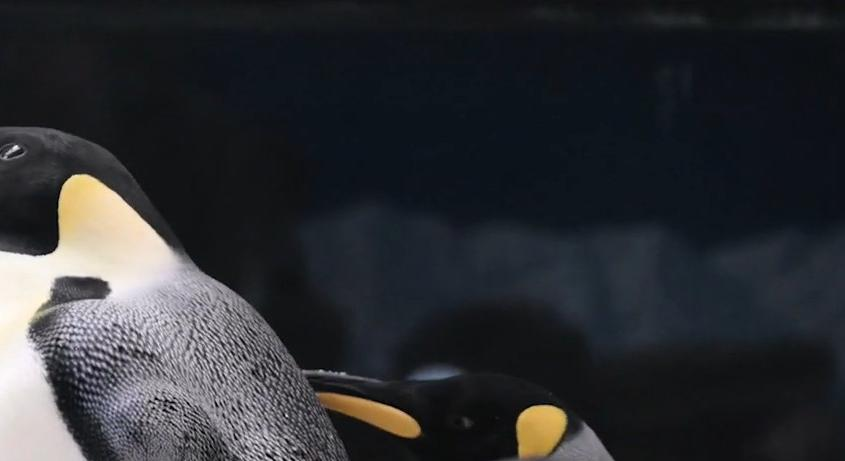Emperor Penguin: (0, 95, 392, 461), (277, 342, 807, 461), (189, 448, 813, 461)
